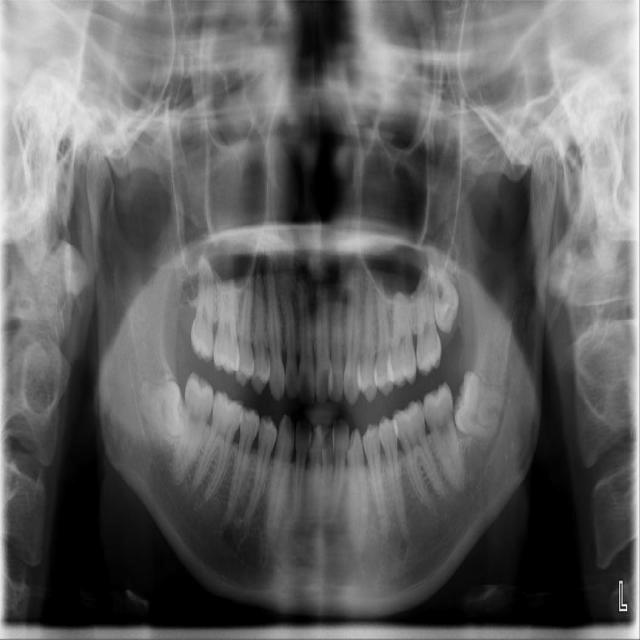impacted tooth: (453, 371, 507, 439), (420, 246, 460, 331), (136, 376, 185, 436)
